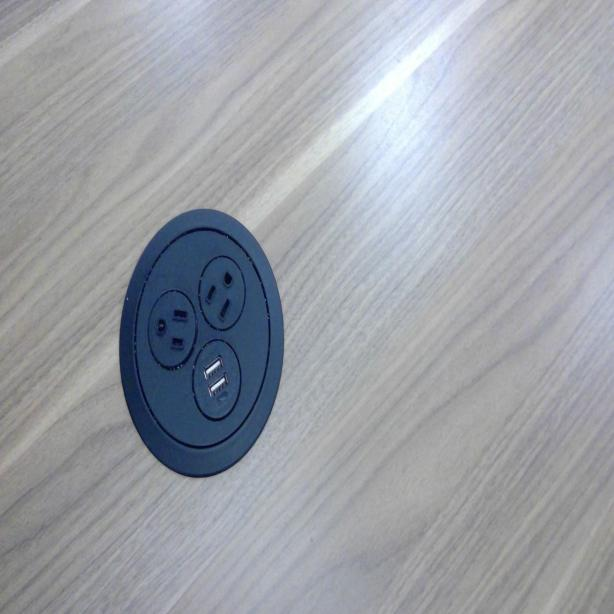typeb: (200, 258, 242, 326), (148, 295, 190, 357)
